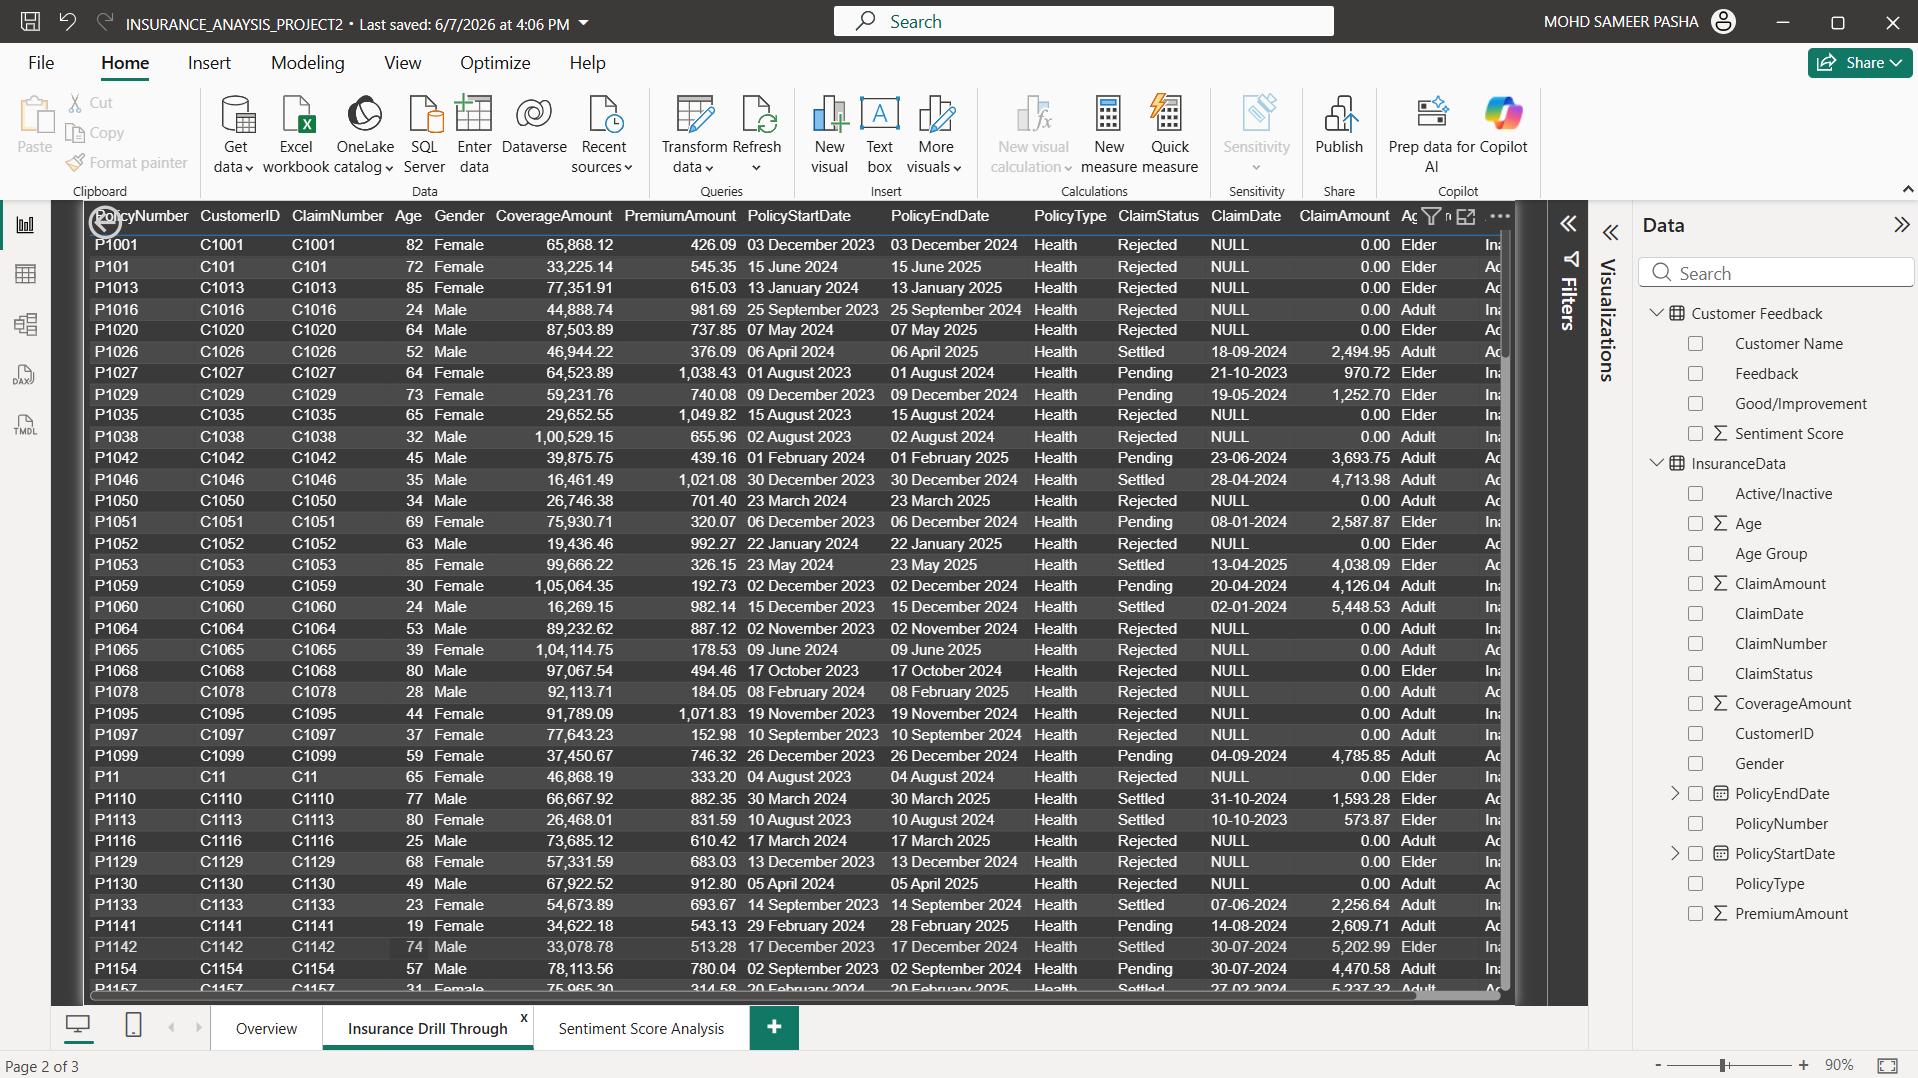

The page's visual inventory and layout, read from the dashboard file:
{"tool":"powerbi","page":{"name":"Insurance Drill Through","canvas":[1280,720],"ordinal":1},"visuals":[{"type":"tableEx","fields":{"Values":["InsuranceData.PolicyNumber","InsuranceData.CustomerID","InsuranceData.ClaimNumber","InsuranceData.Age","InsuranceData.Gender","InsuranceData.CoverageAmount","InsuranceData.PremiumAmount","InsuranceData.PolicyStartDate","InsuranceData.PolicyEndDate","InsuranceData.PolicyType","InsuranceData.ClaimStatus","InsuranceData.ClaimDate"]},"box":[0,0,1280.3,720.4],"z":0},{"type":"actionButton","box":[0,0,100,40],"z":1000}]}

Visuals, with their boxes on the page's 1280x720 design canvas (x1, y1, x2, y2). These are canvas units, not pixel positions in the 1918x1078 screenshot, which may show the page scaled, cropped or inside an application window:
tableEx - InsuranceData.PolicyNumber x InsuranceData.CustomerID: x1=0 y1=0 x2=1280 y2=720
actionButton: x1=0 y1=0 x2=100 y2=40
